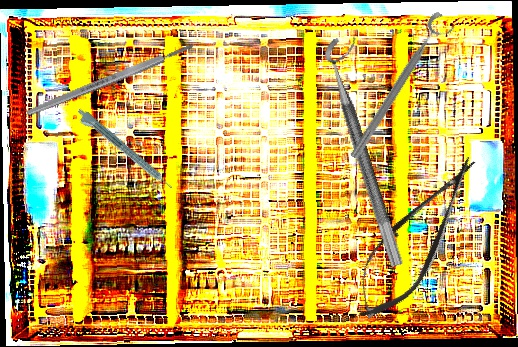Fixation Ring: (320, 33, 423, 268), (346, 10, 458, 167)
Handpiece: (72, 106, 175, 196)
Micro Scissor: (336, 141, 497, 334)
Scalpel Handle: (24, 40, 196, 119)
